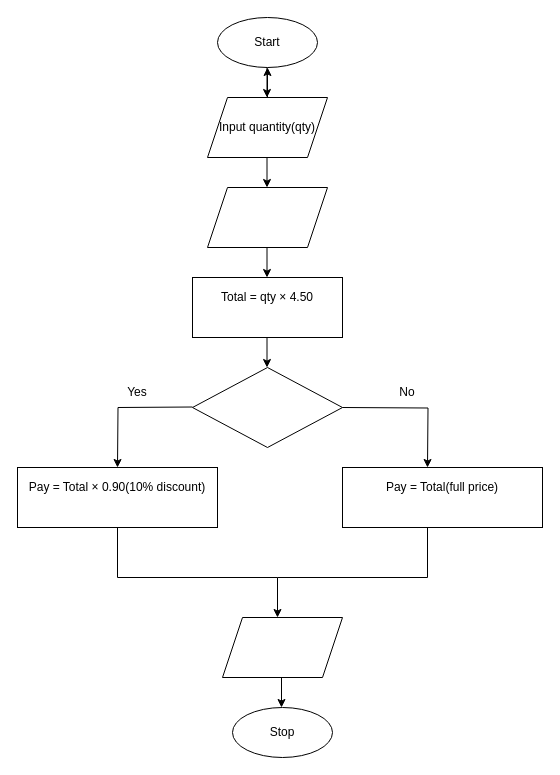
This 560x775 diagram has some shape labels left out. Here are the shapes that lost their labels. From the top down, the centre of each, then its label:
At [267,217]: "Input member(Y/N)".
At [267,407]: "Member = Y?".
At [282,647]: "Display amount to pay (RM)".
